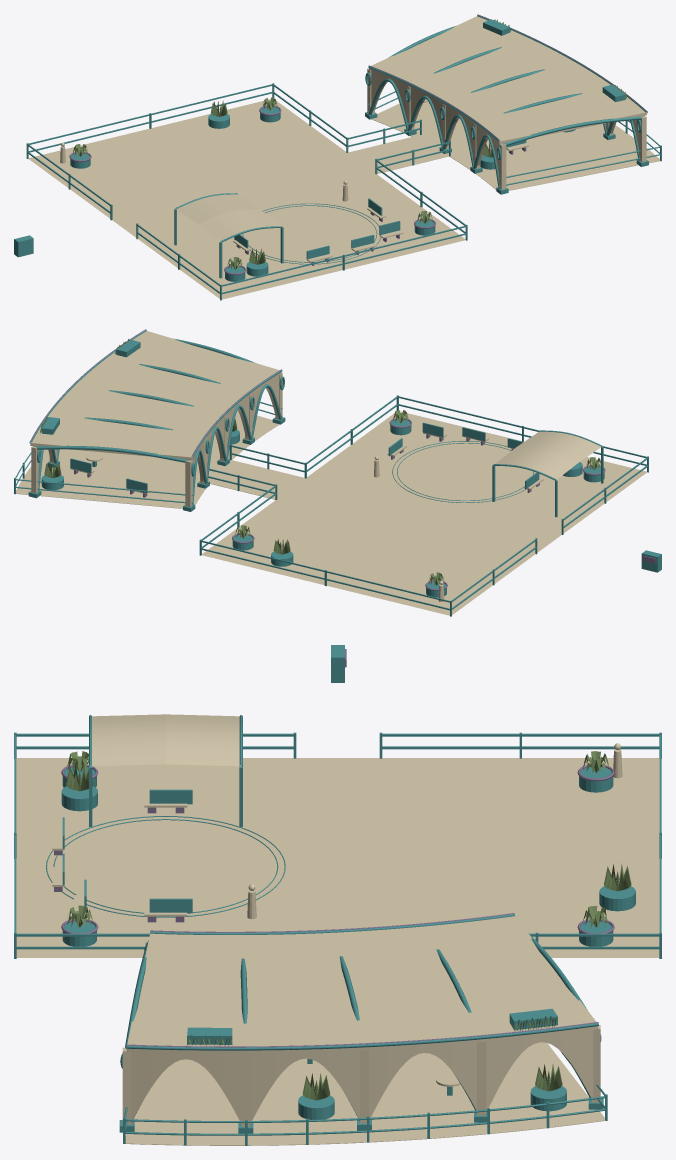
The model's file is commons_blockout.glb.
3 views of the same model, one above another, from view 1: azimuth 30°, elevation 25°; view 2: azimuth 150°, elevation 25°; view 3: azimuth 270°, elevation 25° (orthographic). The views are drawn at different scales.
Parts seen in each view (by area): view 1: COMMONS_batch_Commons limestone, COMMONS_batch_Commons teal, COMMONS_batch_Commons foliage, COMMONS_batch_Commons violet; view 2: COMMONS_batch_Commons limestone, COMMONS_batch_Commons teal, COMMONS_batch_Commons foliage, COMMONS_batch_Commons violet; view 3: COMMONS_batch_Commons limestone, COMMONS_batch_Commons teal, COMMONS_batch_Commons foliage, COMMONS_batch_Commons violet.
Part boxes in pixels (left/top/right/bottom): COMMONS_batch_Commons limestone: left=28, top=16, right=659, bottom=299; COMMONS_batch_Commons teal: left=14, top=15, right=661, bottom=300; COMMONS_batch_Commons foliage: left=73, top=19, right=626, bottom=270; COMMONS_batch_Commons violet: left=69, top=14, right=647, bottom=274; COMMONS_batch_Commons limestone: left=16, top=331, right=647, bottom=615; COMMONS_batch_Commons teal: left=14, top=330, right=661, bottom=616; COMMONS_batch_Commons foliage: left=40, top=339, right=600, bottom=585; COMMONS_batch_Commons violet: left=30, top=329, right=656, bottom=590; COMMONS_batch_Commons limestone: left=16, top=714, right=659, bottom=1145; COMMONS_batch_Commons teal: left=14, top=645, right=661, bottom=1145; COMMONS_batch_Commons foliage: left=66, top=751, right=631, bottom=1100; COMMONS_batch_Commons violet: left=54, top=649, right=614, bottom=1047.
Size of the model in its own units: 52.31 by 5 by 30.12.
